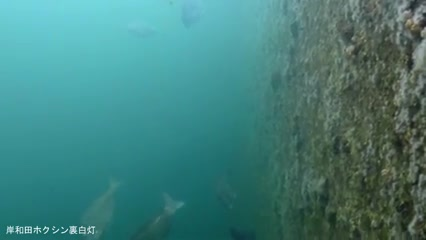smallfish: (324, 130, 358, 157)
